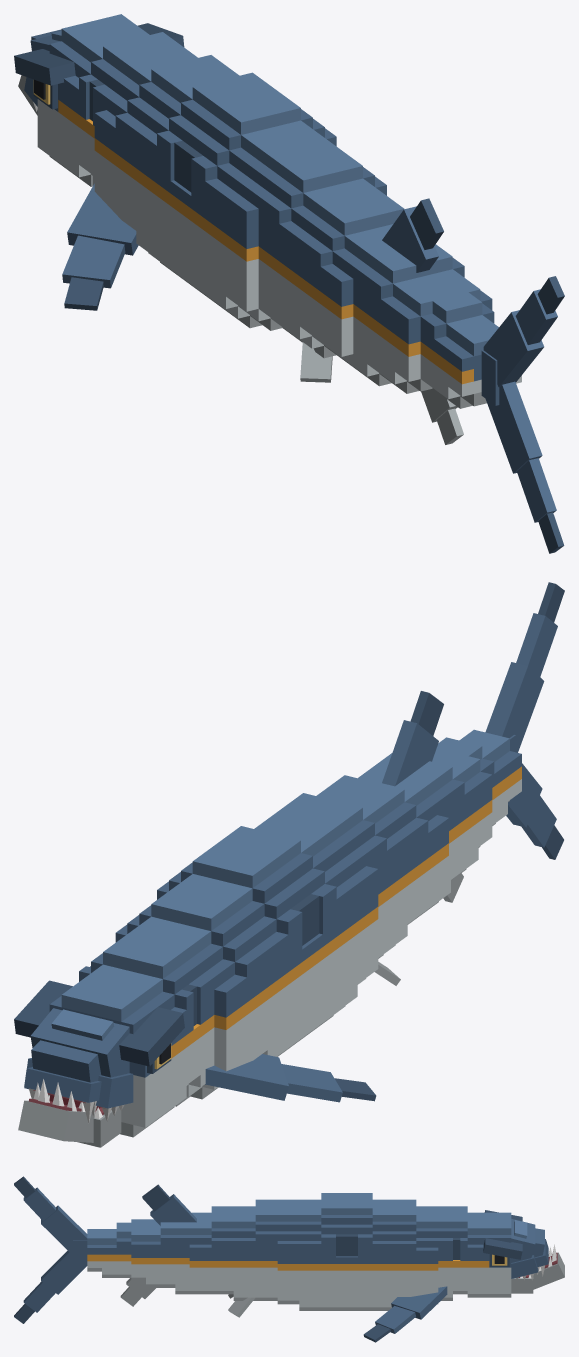
The model's file is Xiphactinus.obj.
3 views of the same model, one above another, from view 1: azimuth 30°, elevation 25°; view 2: azimuth 150°, elevation 25°; view 3: azimuth 270°, elevation 25° (orthographic). The views are drawn at different scales.
Parts seen in each view (by area): view 1: B3, B2, B4, Tail, Head, B9, B10, B5, B6, FinL, B7, B1 (+3 smaller); view 2: Head, B2, B3, B4, Tail, B1, B9, FinL, B7, Jaw, B6, B5 (+4 smaller); view 3: B2, B3, Head, B4, Tail, B9, B1, B10, B6, B5, B7, B8 (+4 smaller).
Part boxes in pixels (left/top/right/bottom): B3: left=157, top=72, right=336, bottom=312; B2: left=94, top=52, right=239, bottom=277; B4: left=205, top=120, right=341, bottom=330; Tail: left=481, top=276, right=564, bottom=553; Head: left=14, top=14, right=184, bottom=186; B9: left=353, top=198, right=464, bottom=386; B10: left=381, top=269, right=492, bottom=444; B5: left=258, top=151, right=386, bottom=342; B6: left=279, top=178, right=383, bottom=382; FinL: left=62, top=183, right=138, bottom=310; B7: left=300, top=193, right=404, bottom=360; B1: left=79, top=32, right=189, bottom=185; Head: left=14, top=964, right=186, bottom=1137; B2: left=115, top=874, right=288, bottom=1099; B3: left=157, top=826, right=336, bottom=1056; B4: left=254, top=808, right=378, bottom=1030; Tail: left=485, top=582, right=564, bottom=859; B1: left=79, top=932, right=214, bottom=1106; B9: left=365, top=691, right=464, bottom=911; FinL: left=205, top=1054, right=376, bottom=1102; B7: left=324, top=775, right=428, bottom=923; Jaw: left=18, top=1079, right=121, bottom=1147; B6: left=316, top=790, right=407, bottom=985; B5: left=283, top=793, right=386, bottom=956; B2: left=372, top=1199, right=438, bottom=1310; B3: left=321, top=1193, right=372, bottom=1310; Head: left=467, top=1210, right=548, bottom=1297; B4: left=277, top=1199, right=321, bottom=1310; Tail: left=14, top=1176, right=87, bottom=1323; B9: left=142, top=1184, right=196, bottom=1294; B1: left=438, top=1206, right=467, bottom=1300; B10: left=120, top=1219, right=160, bottom=1306; B6: left=228, top=1206, right=255, bottom=1317; B5: left=255, top=1199, right=277, bottom=1300; B7: left=211, top=1206, right=233, bottom=1294; B8: left=189, top=1212, right=211, bottom=1294.
Size of the model in its own units: 11.75 by 9.94 by 33.93.
1 material, 1 textured.
